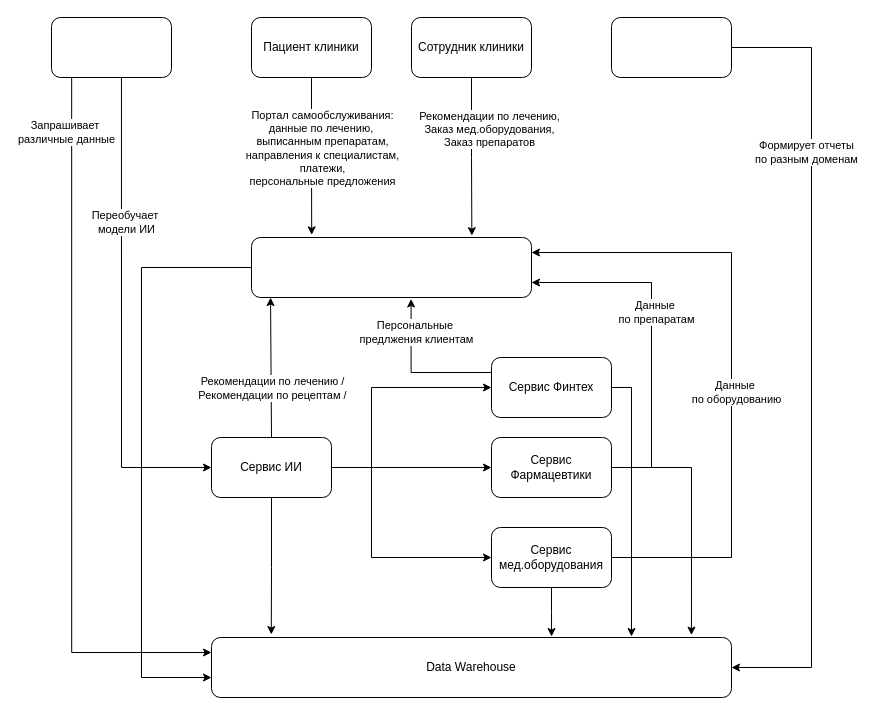
Image size: 874x715. Some labels were removed from this diagram. The shapes that lost their labels are listed below. From the top down, each one's centre as x and y in pixels, then its label:
At pixel 111 47: "ML специалист".
At pixel 671 47: "Аналитик компании".
At pixel 391 267: "Будущее 2.0 (Портал клиники)".
